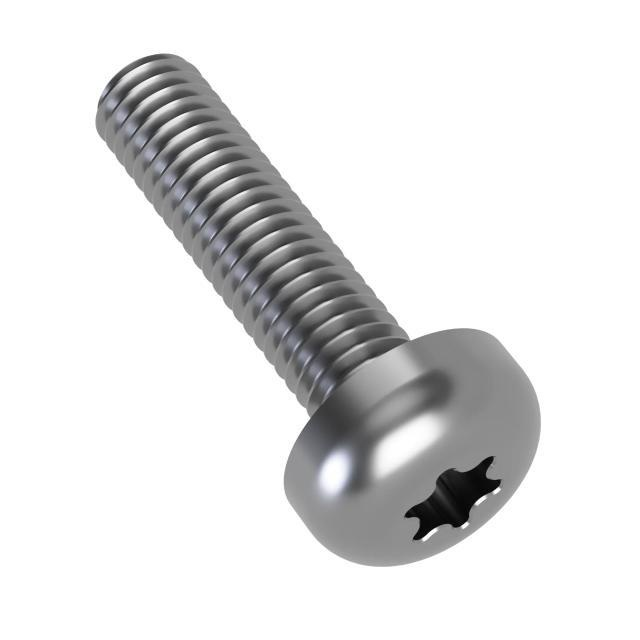torx: (282, 318, 545, 589)
